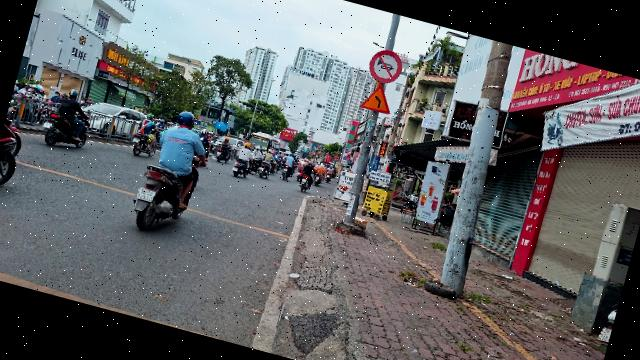cam-bop-coi: (364, 45, 406, 87)
cho-ngoat-nguy-hiem-ben-trai: (359, 80, 397, 115)
